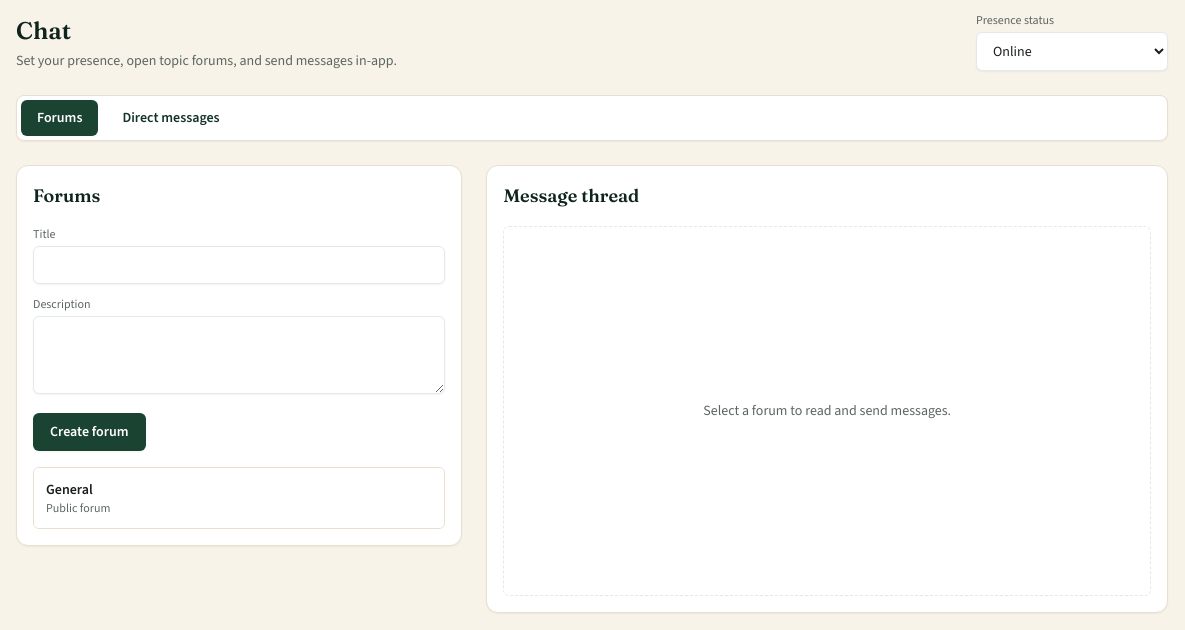
Test case: public forum › has no side effects on unread state, message order, or the message list
Click the button "General Public forum" at (69, 490), box [34,468,444,528]
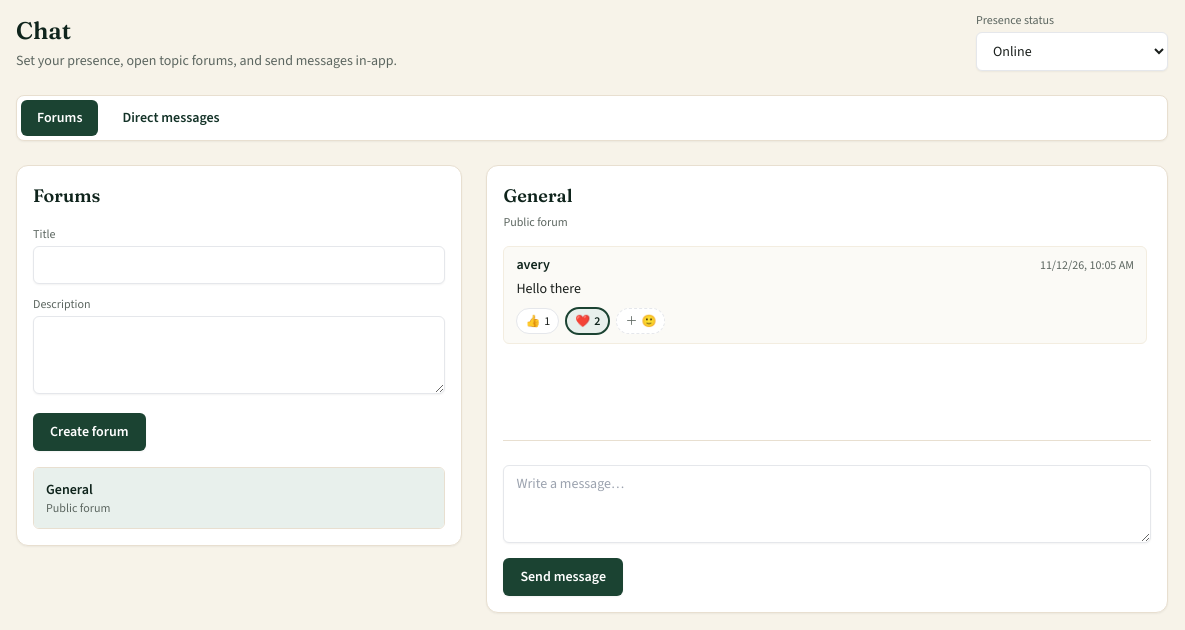
Click the button named "Add reaction" at (641, 321), box [616,308,666,334]
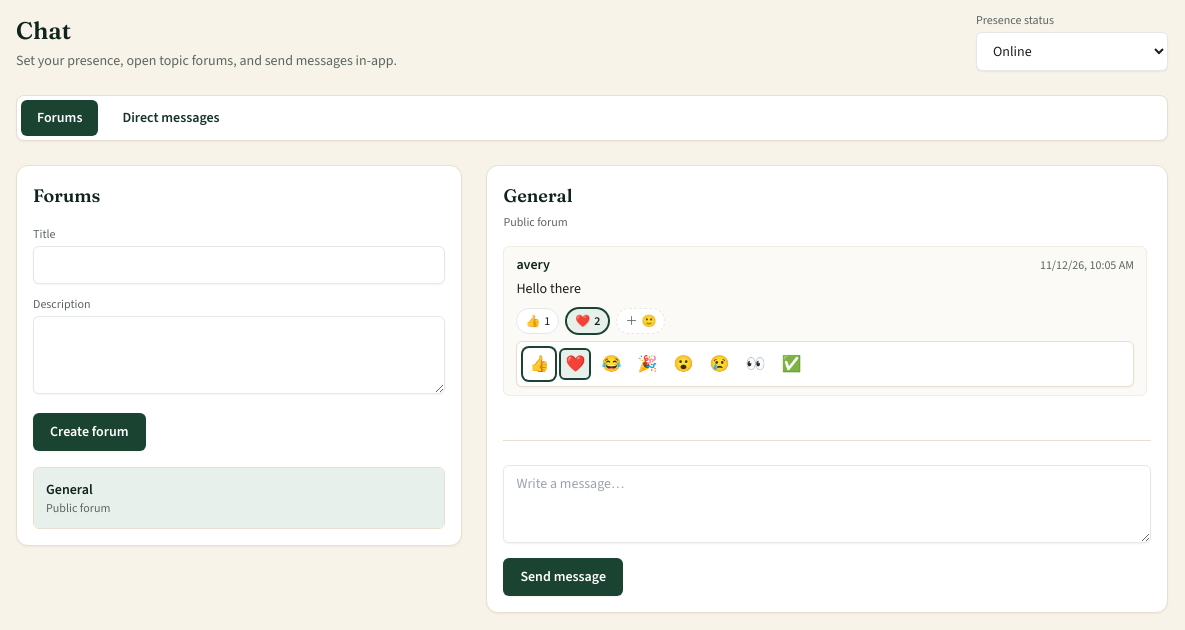
Click the button named "Eyes" at (755, 364), box [739,348,771,380]
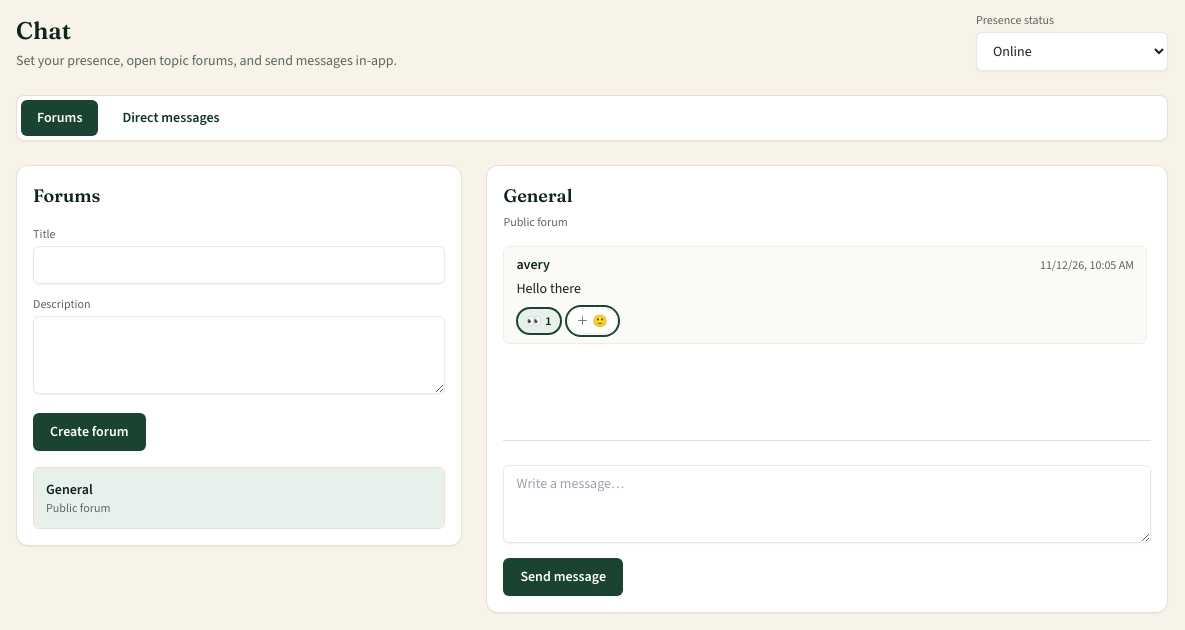
Expected: the number of list items with test id "chat-message" is 1, [503,246,1147,344]
Expected: the button named "Eyes, 1 reaction, you reacted" is shown, [516,307,562,335]
